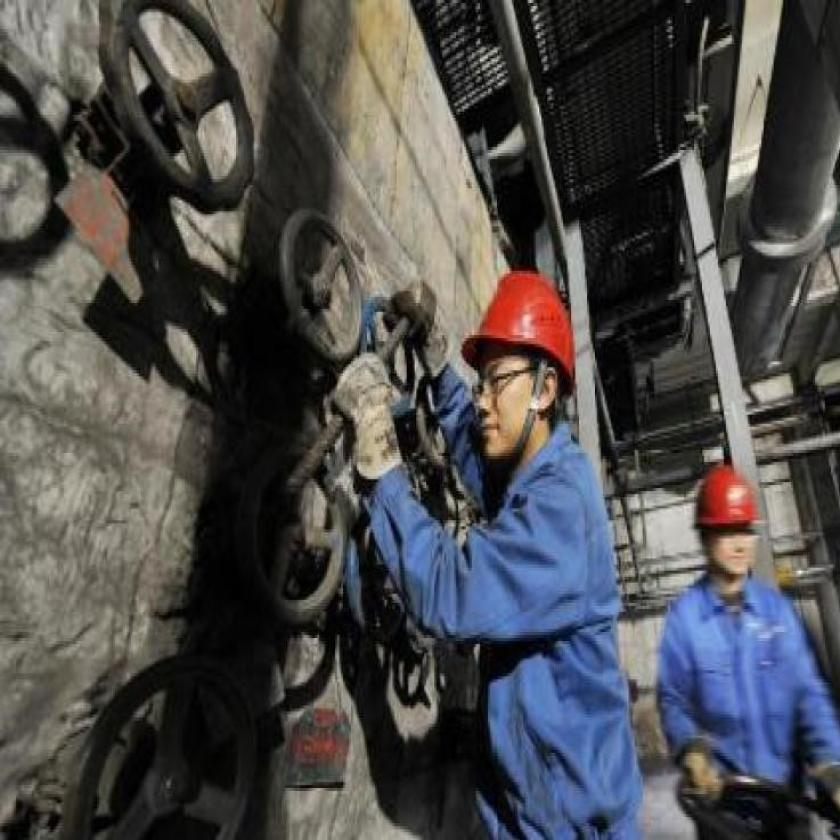Con_casco: (466, 260, 581, 463), (694, 461, 764, 592)
